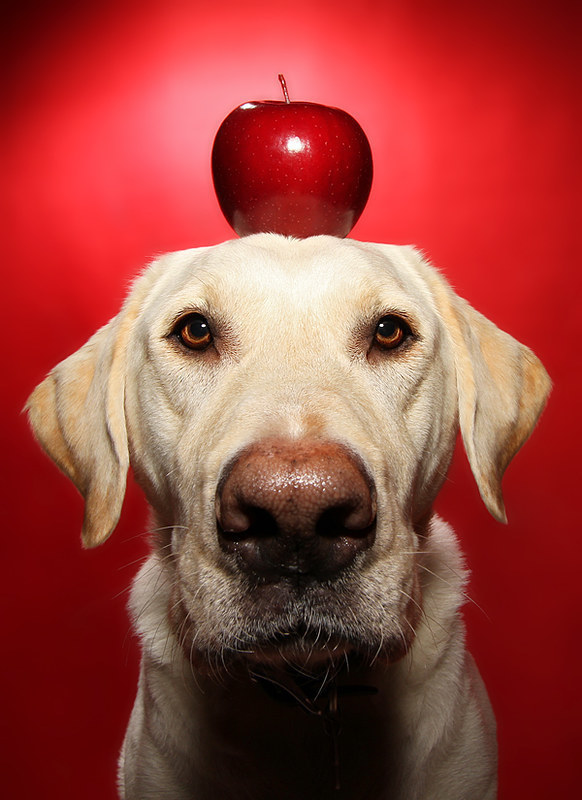apple: (208, 86, 374, 252)
